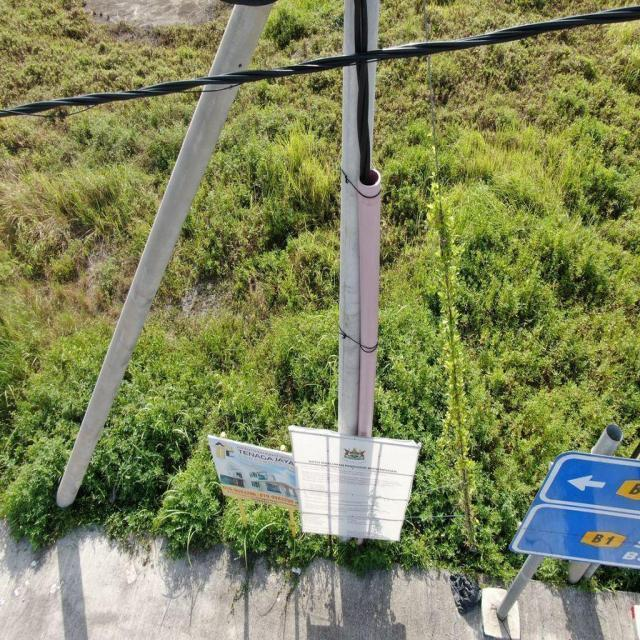critical vegetation: (416, 180, 486, 552)
